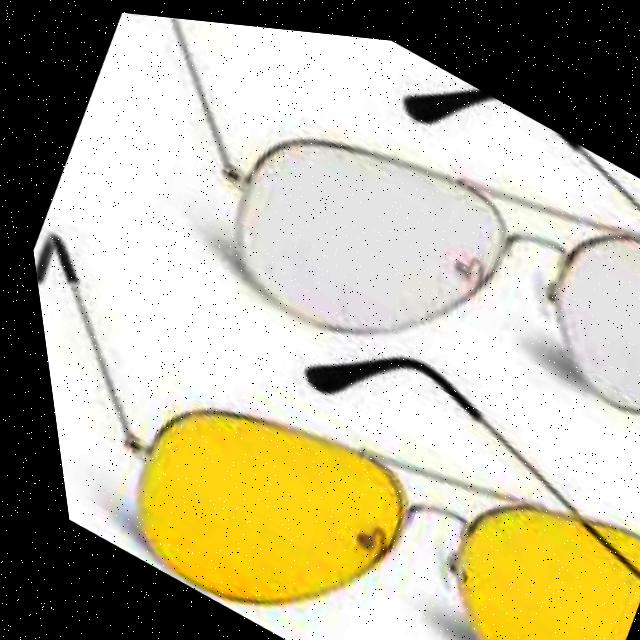gozluk: (25, 239, 640, 640)
